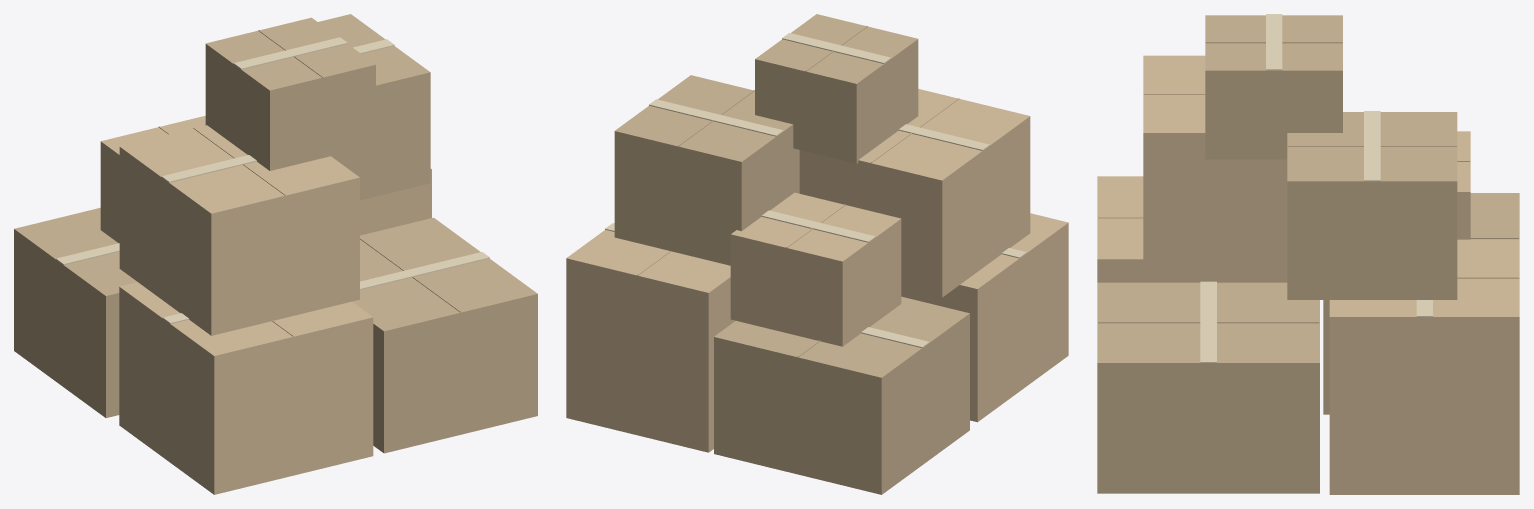
The model's file is dm_boxstack.glb.
3 renders of one model, left to right at view 1: azimuth 30°, elevation 25°; view 2: azimuth 150°, elevation 25°; view 3: azimuth 270°, elevation 25°, orthographic. The views are drawn at different scales.
Visible parts, largest first — view 1: dm_boxstack; view 2: dm_boxstack; view 3: dm_boxstack.
Part boxes in pixels (x1,y1,x2,y2): dm_boxstack: [14, 14, 537, 494]; dm_boxstack: [566, 14, 1068, 494]; dm_boxstack: [1097, 14, 1519, 494].
Size of the model in its own units: 1.24 by 1.23 by 1.29.
